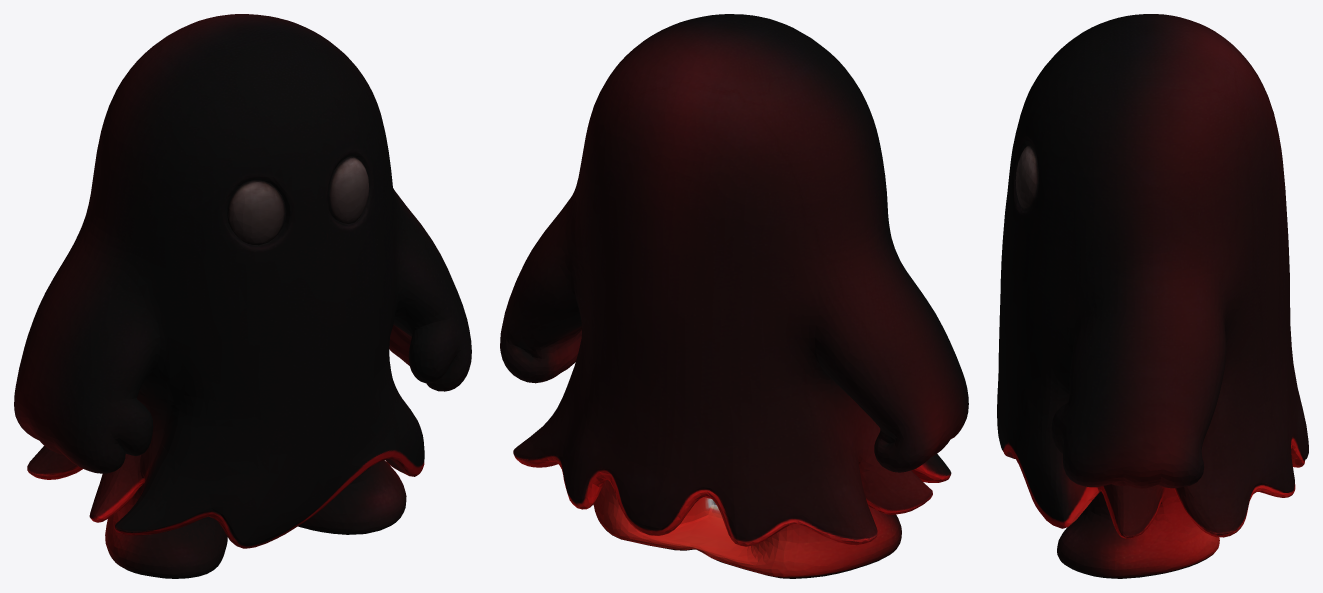
Rendered from ghostfbx.fbx.
The picture shows the model from 3 angles, left to right: view 1: azimuth 30°, elevation 25°; view 2: azimuth 150°, elevation 25°; view 3: azimuth 270°, elevation 25°; orthographic projection. The views are drawn at different scales.
Parts seen in each view (by area): view 1: geometry_0.001_Baked; view 2: geometry_0.001_Baked; view 3: geometry_0.001_Baked.
Boxes of the visible parts, x1,y1,x2,y2 form: geometry_0.001_Baked: (14,14,471,578); geometry_0.001_Baked: (500,14,968,578); geometry_0.001_Baked: (997,14,1308,578).
Bounding box in the file's own units: 266 × 299 × 173.
